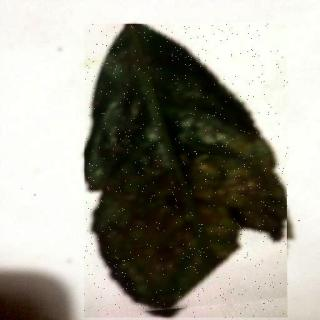Red Leaf Spot: (86, 25, 290, 319)
